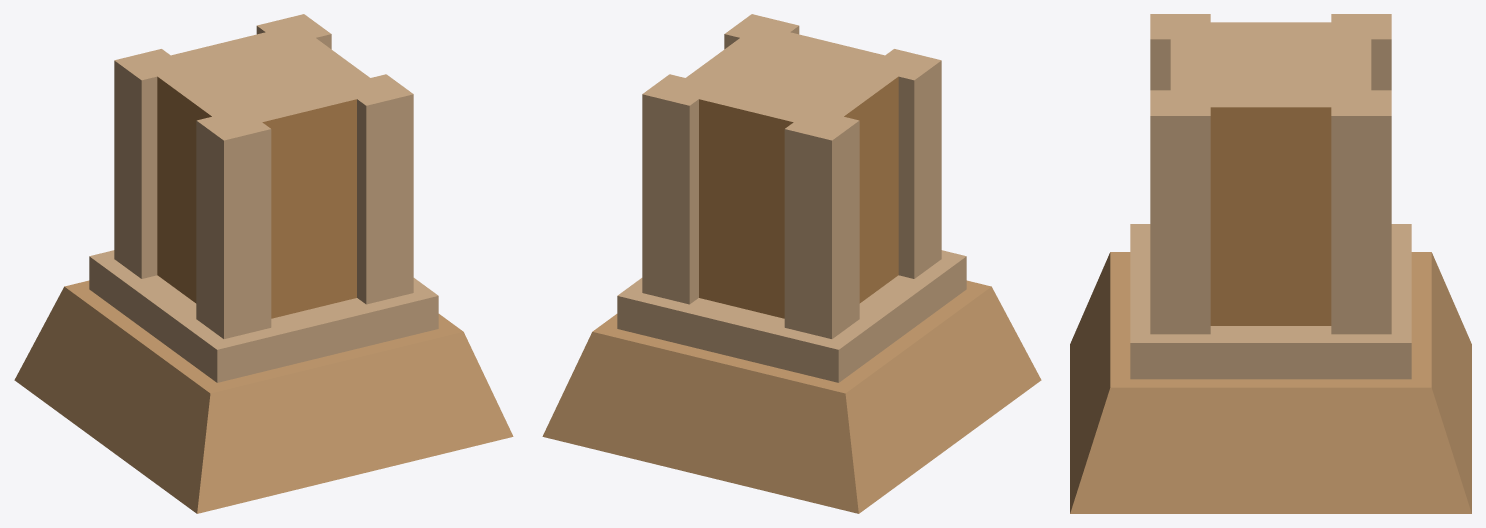
File: Pillar_Large_Base.obj
The picture shows the model from 3 angles, left to right: view 1: azimuth 30°, elevation 25°; view 2: azimuth 150°, elevation 25°; view 3: azimuth 270°, elevation 25°; orthographic projection. The views are drawn at different scales.
Parts seen in each view (by area): view 1: object2, object1; view 2: object2, object1; view 3: object1, object2.
Boxes of the visible parts, x1,y1,x2,y2 form: object2: (114, 14, 413, 338); object1: (14, 250, 513, 513); object2: (642, 14, 941, 338); object1: (542, 250, 1041, 513); object1: (1070, 224, 1471, 513); object2: (1150, 14, 1391, 334).
Bounding box in the file's own units: 1 × 1 × 1.
